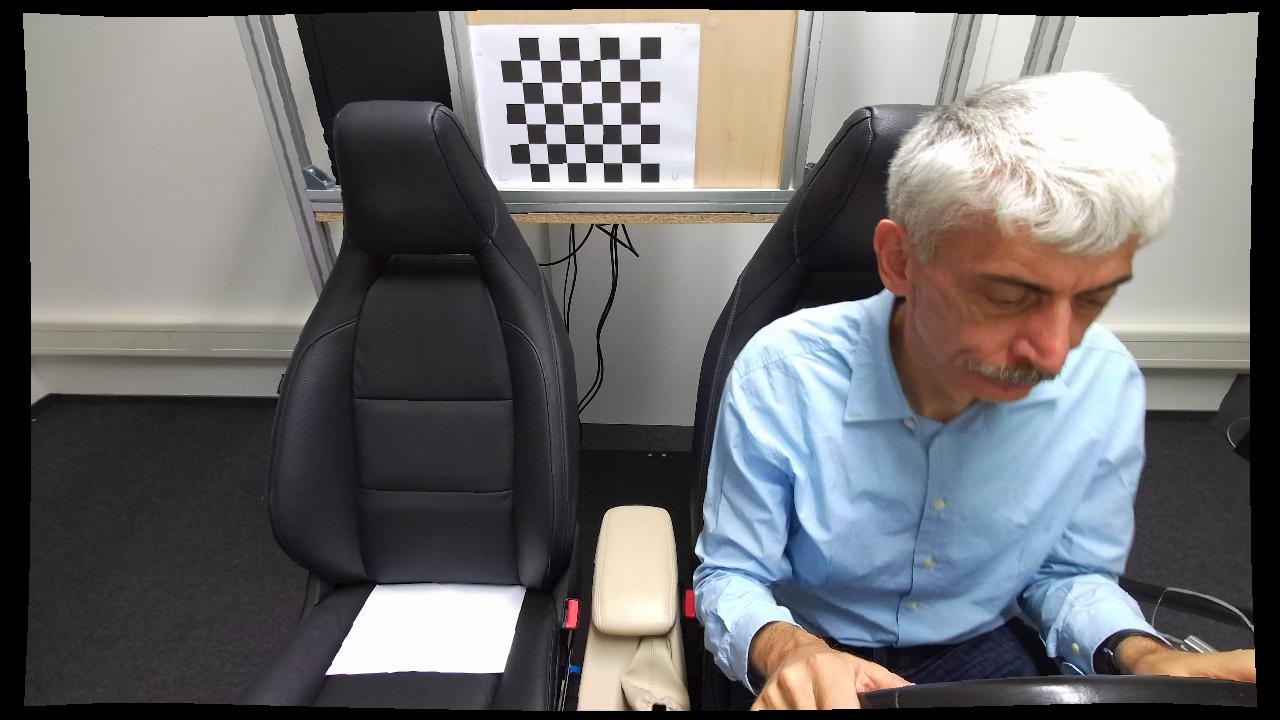Distracted: (696, 62, 1184, 715)
